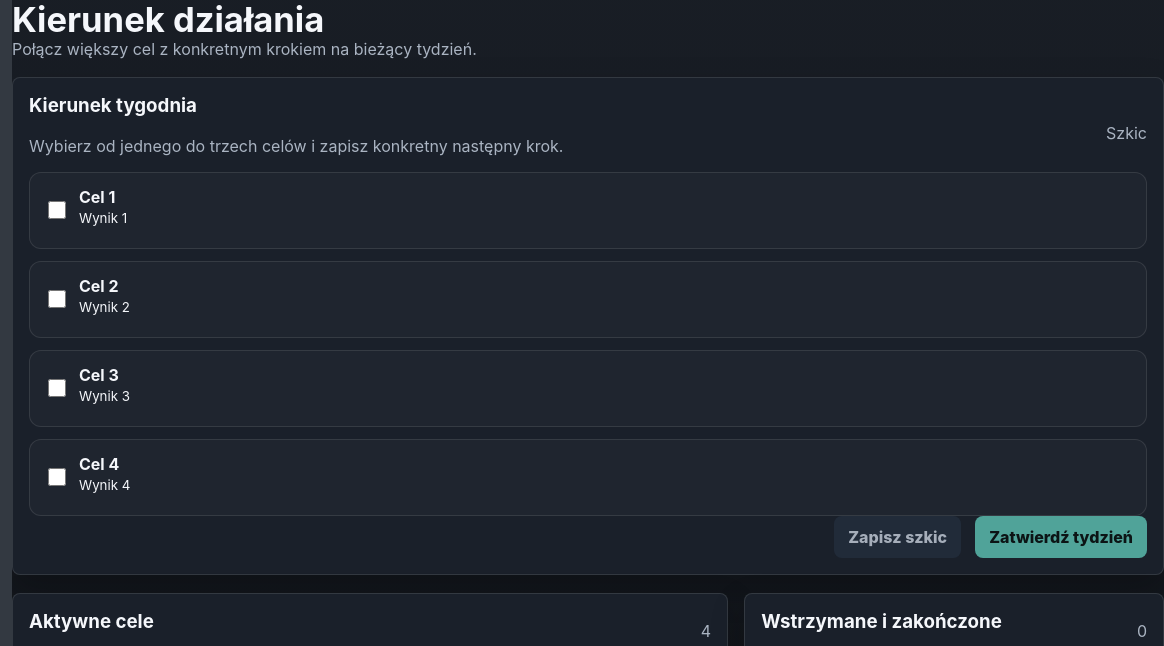
Test: GoalsView › disables a fourth weekly priority after selecting three
Click the checkbox named "Priorytet Cel 1" at (57, 210), box [48,189,66,231]
(page scrolled)
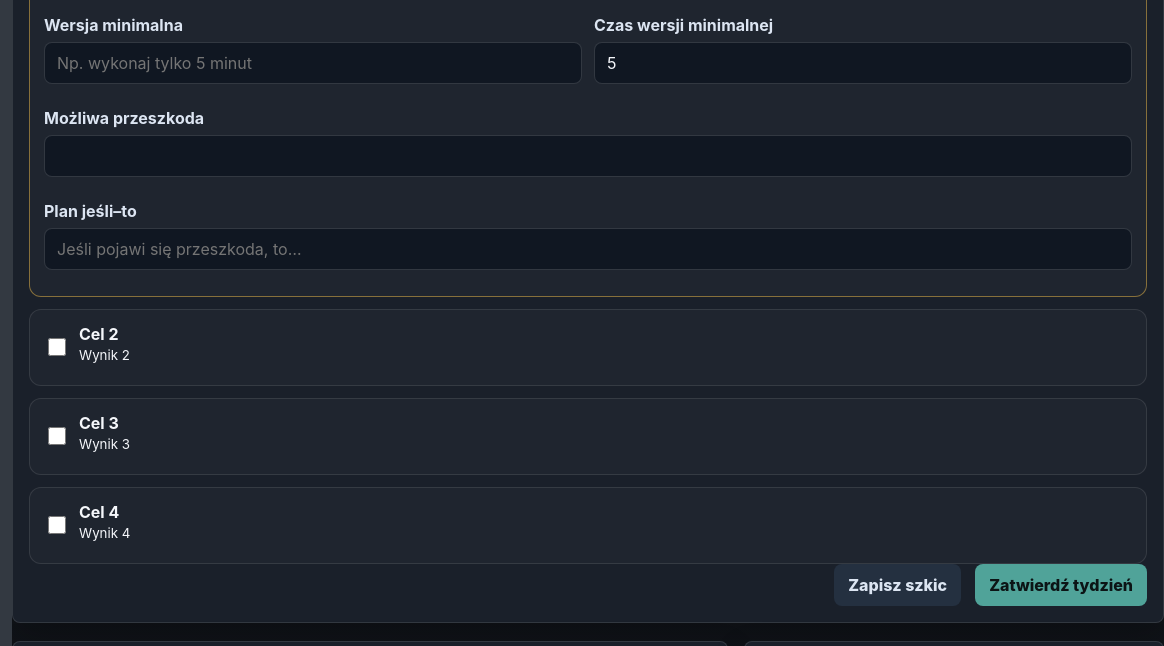
Click the checkbox named "Priorytet Cel 2" at (57, 347), box [48,326,66,368]
(page scrolled)
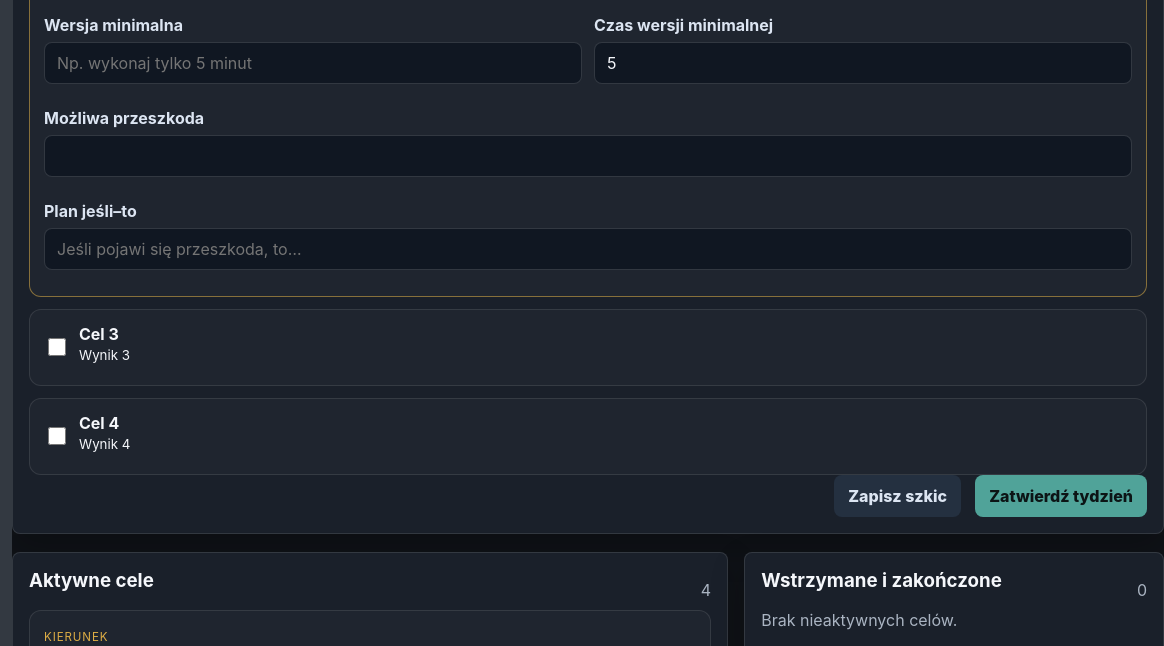
Click the checkbox named "Priorytet Cel 3" at (57, 347), box [48,326,66,368]
(page scrolled)
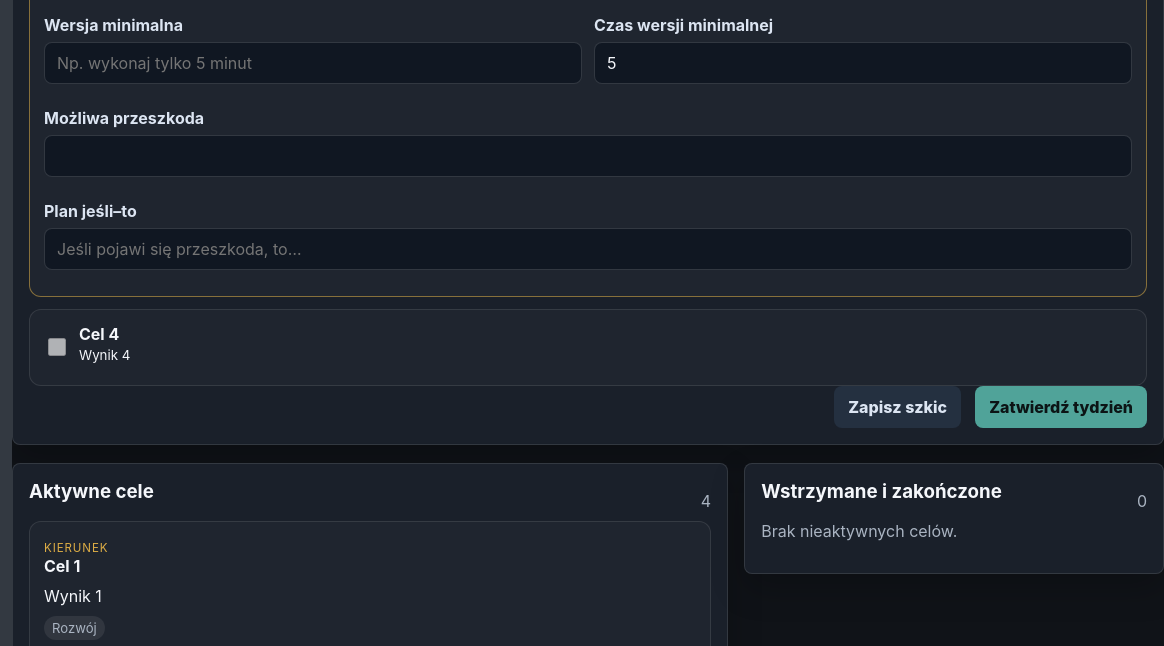
Result: the checkbox named "Priorytet Cel 4" is disabled at [48,326,66,368]
